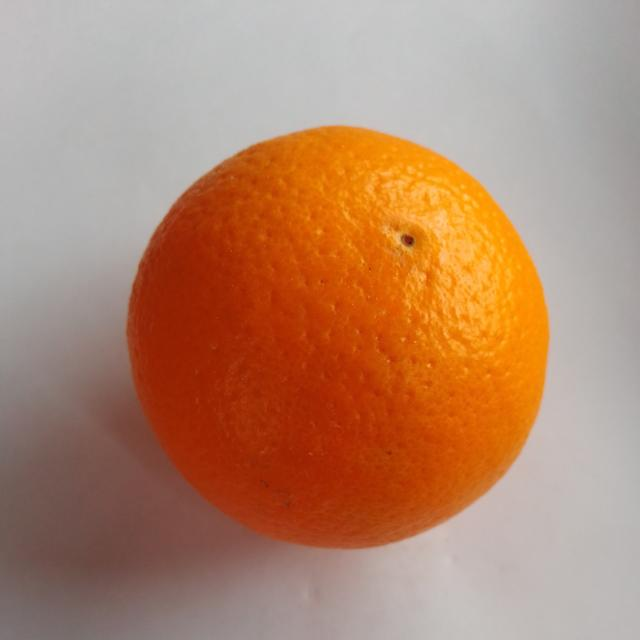orange: (128, 127, 548, 547)
